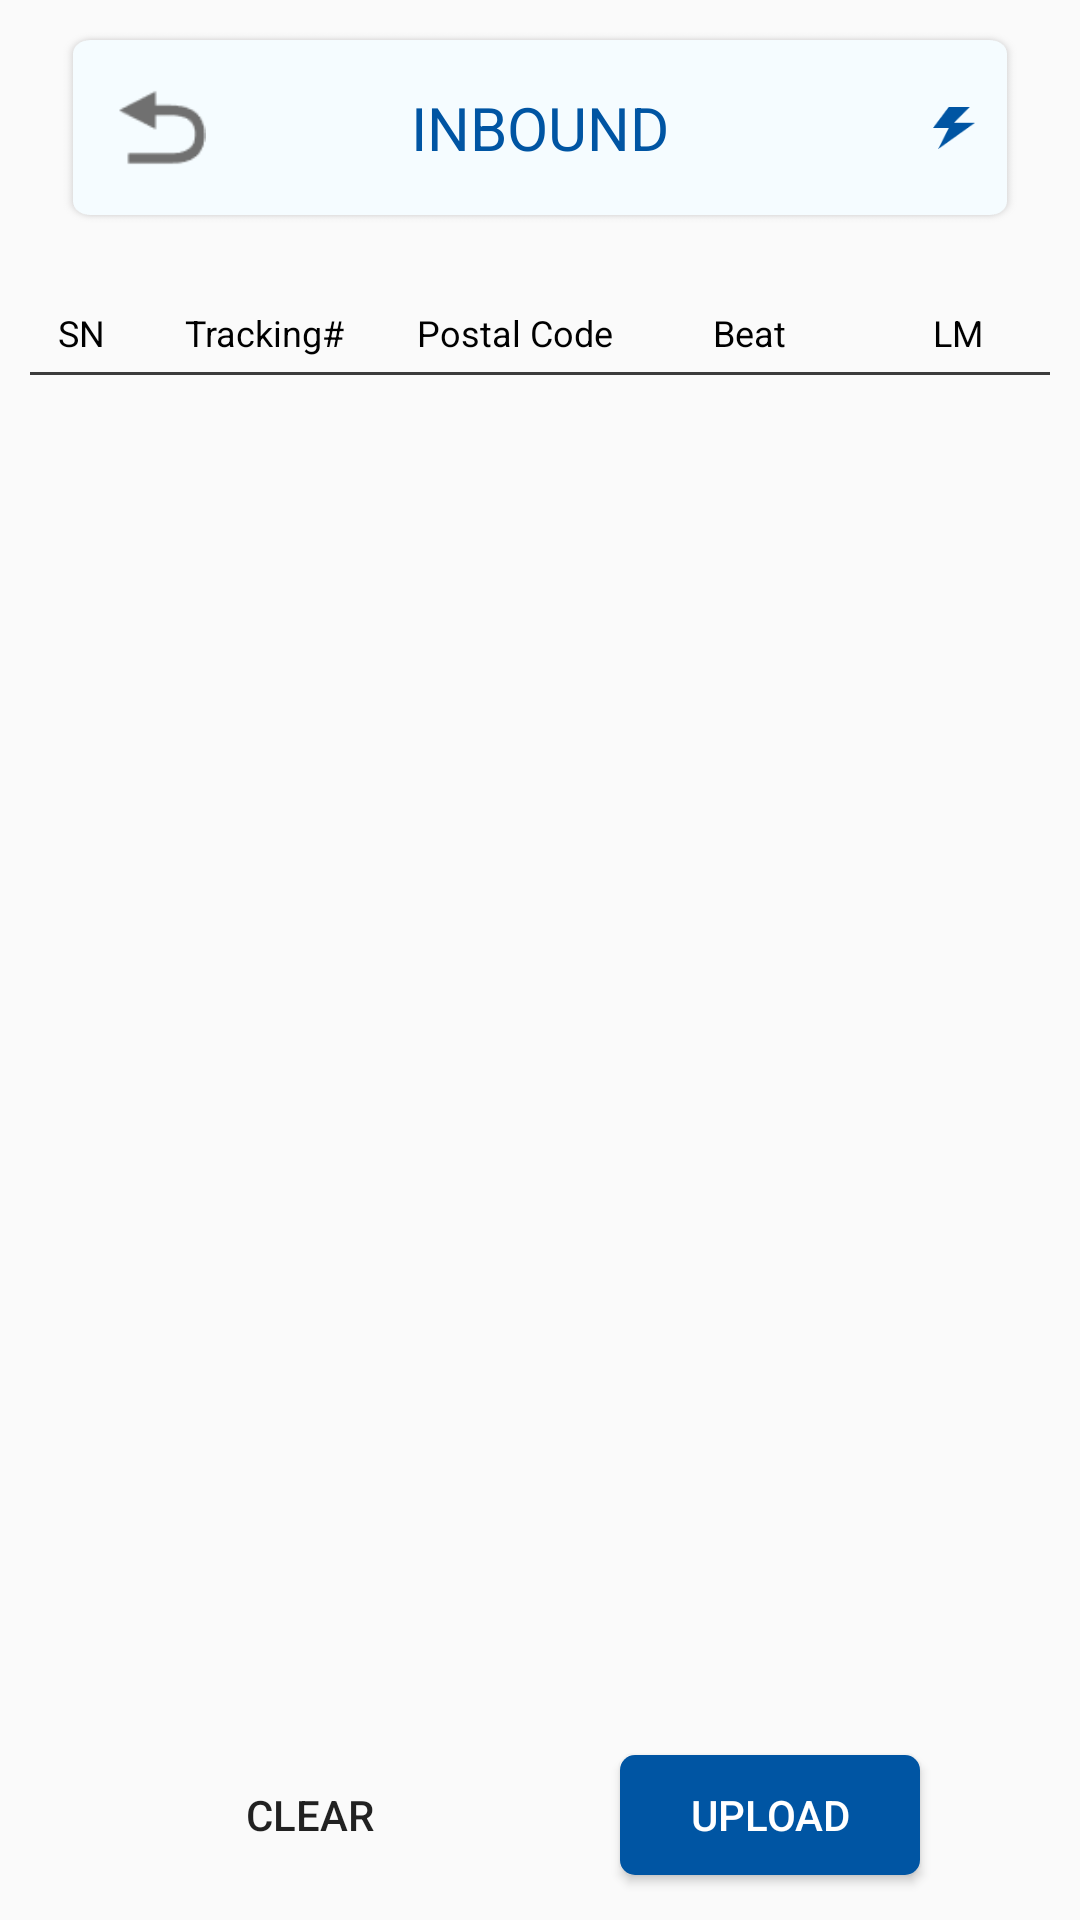

Icons on this 1080x1920 Android screen, each with its box as (x1, y1, x2, y2):
back: (119, 91, 206, 164)
